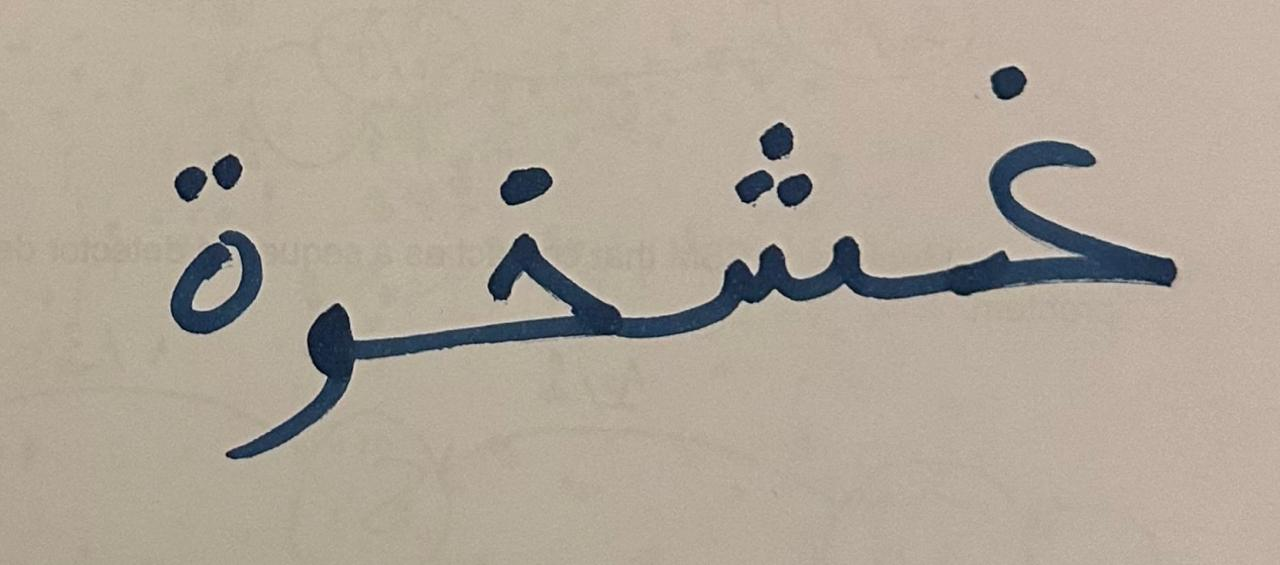ghain: (911, 20, 1227, 371)
lam: (369, 48, 631, 423)
tah: (635, 36, 908, 404)
thal: (121, 97, 267, 339)
yeh: (271, 215, 365, 515)
